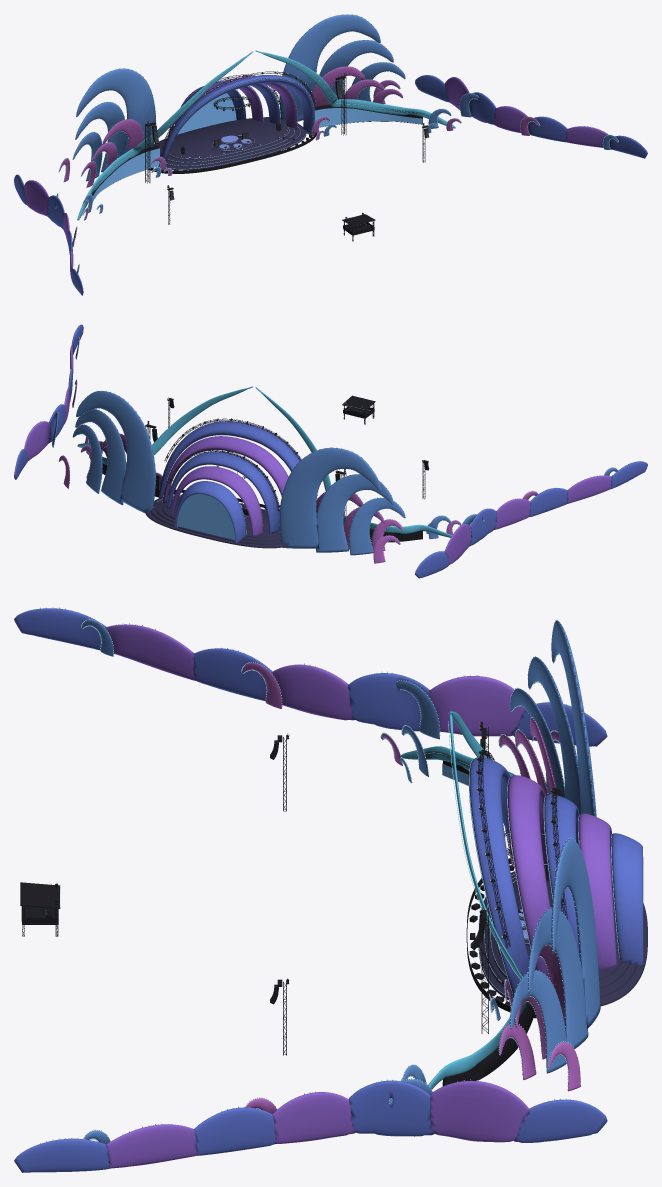
File: venue.glb
3 renders of one model, top to bottom at view 1: azimuth 30°, elevation 25°; view 2: azimuth 150°, elevation 25°; view 3: azimuth 270°, elevation 25°, orthographic. The views are drawn at different scales.
Parts seen in each view (by area): view 1: PaintCrest, PaintShellA, Deck, PaintShellB, Rigging, PaintEcho, PaintRibbon, Leds, ScreenWingR, ScreenMoon, ScreenWingL; view 2: PaintCrest, PaintShellA, PaintShellB, Rigging, PaintRibbon, PaintEcho, Deck, ScreenMoon, Leds; view 3: PaintShellA, PaintShellB, PaintCrest, Rigging, PaintEcho, Leds, Deck, PaintRibbon.
Boxes of the visible parts, <box> form: PaintCrest: <box>55,14,618,272</box>; PaintShellA: <box>14,75,647,295</box>; Deck: <box>153,117,306,170</box>; PaintShellB: <box>24,76,610,277</box>; Rigging: <box>92,71,428,241</box>; PaintEcho: <box>59,66,539,246</box>; PaintRibbon: <box>77,50,455,220</box>; Leds: <box>18,14,640,280</box>; ScreenWingR: <box>315,108,422,127</box>; ScreenMoon: <box>178,93,236,134</box>; ScreenWingL: <box>92,148,159,200</box>; PaintCrest: <box>52,337,617,555</box>; PaintShellA: <box>14,324,647,578</box>; PaintShellB: <box>24,345,611,564</box>; Rigging: <box>89,395,429,542</box>; PaintRibbon: <box>77,386,451,537</box>; PaintEcho: <box>58,380,537,563</box>; Deck: <box>145,495,287,548</box>; ScreenMoon: <box>176,494,235,541</box>; Leds: <box>18,324,640,561</box>; PaintShellA: <box>14,608,643,1172</box>; PaintShellB: <box>106,624,616,1168</box>; PaintCrest: <box>82,620,600,1144</box>; Rigging: <box>20,721,567,1086</box>; PaintEcho: <box>242,662,580,1113</box>; Leds: <box>27,607,619,1149</box>; Deck: <box>478,871,647,1006</box>; PaintRibbon: <box>401,711,526,1089</box>.
Bounding box in the file's own units: 231 × 45.75 × 114.
